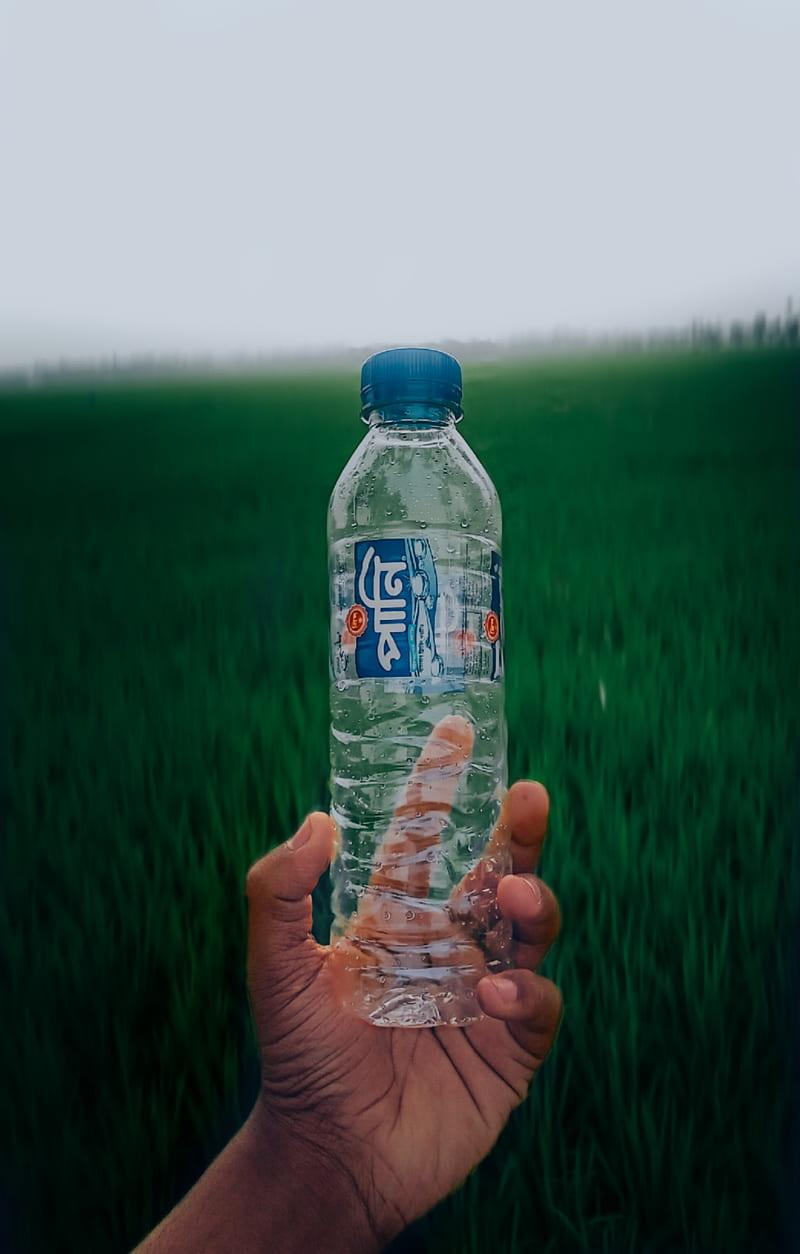plastic_bottle: (309, 343, 523, 1049)
